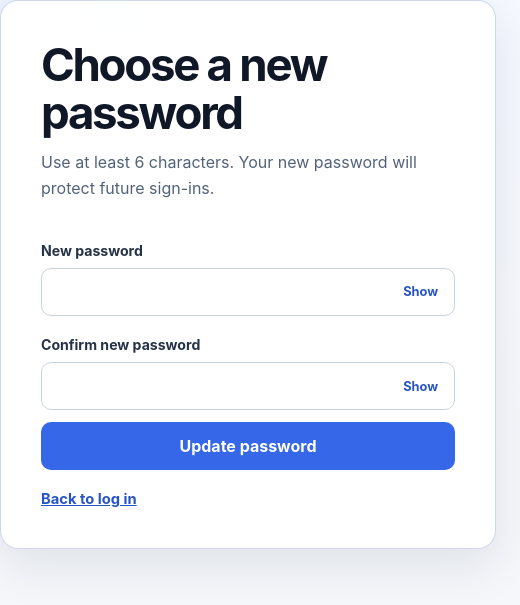
Scenario: PasswordResetForm › updates the password and shows success
Type "password123" into the password field labelled "New password".
click(248, 292); type("password123")  # box [41,268,455,316]
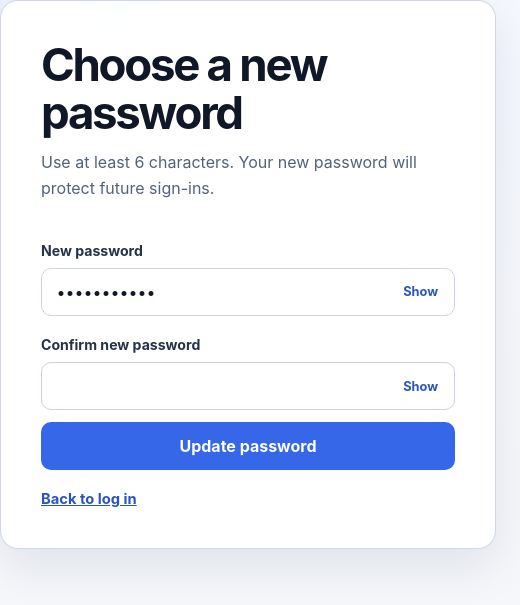
Type "password123" into the password field labelled "Confirm new password".
click(248, 386); type("password123")  # box [41,362,455,410]
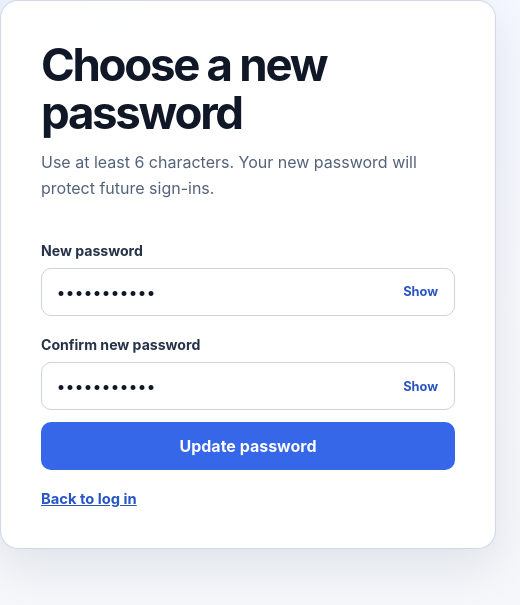
Click the button "Update password".
click(248, 446)  # box [41,422,455,470]
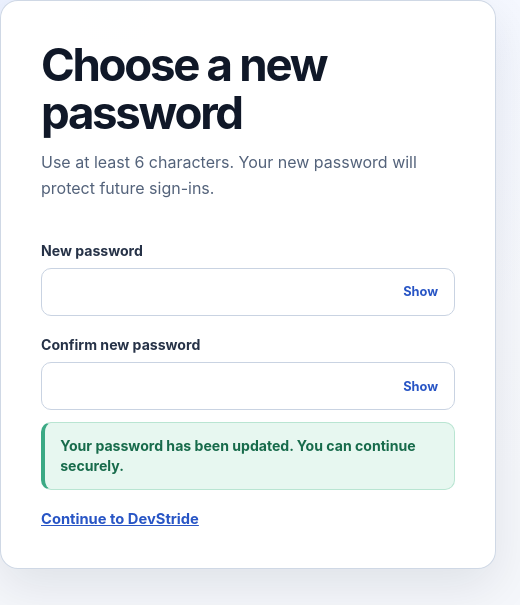
Result: the message shows "password has been updated" at [60,437,416,474]
Result: the password field labelled "New password" is empty at [41,268,455,316]
